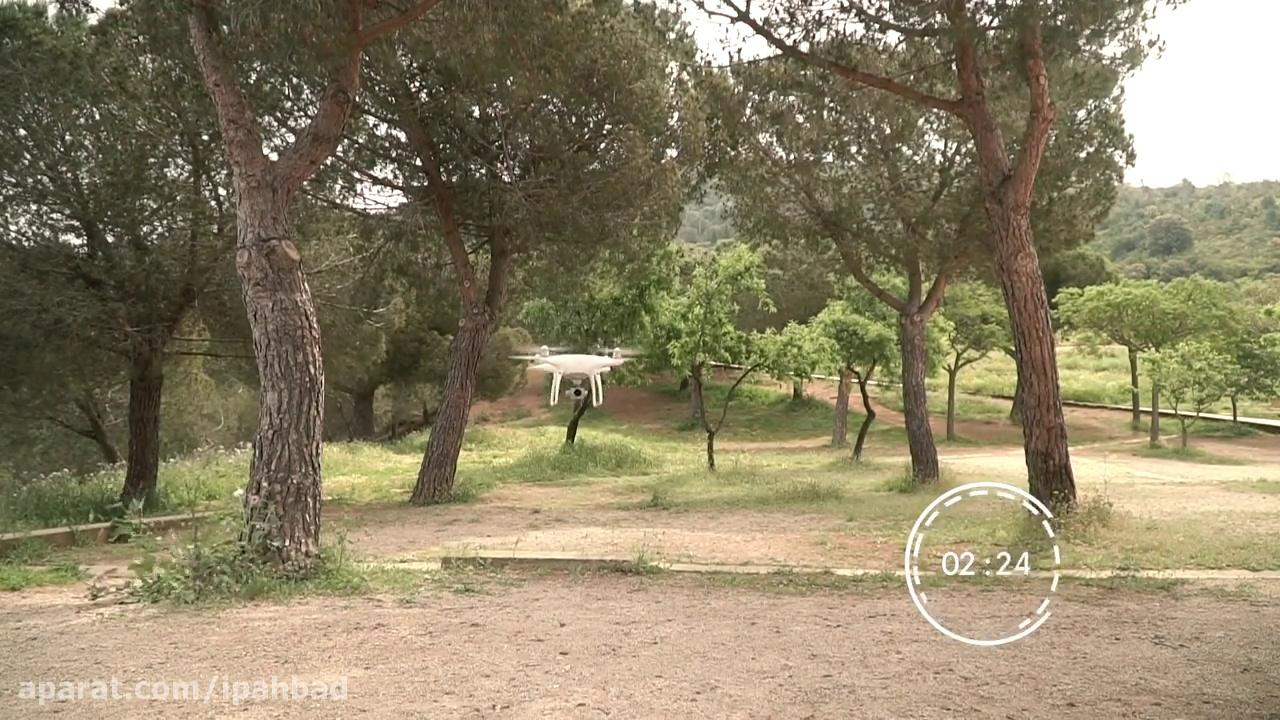drone: (499, 341, 648, 408)
